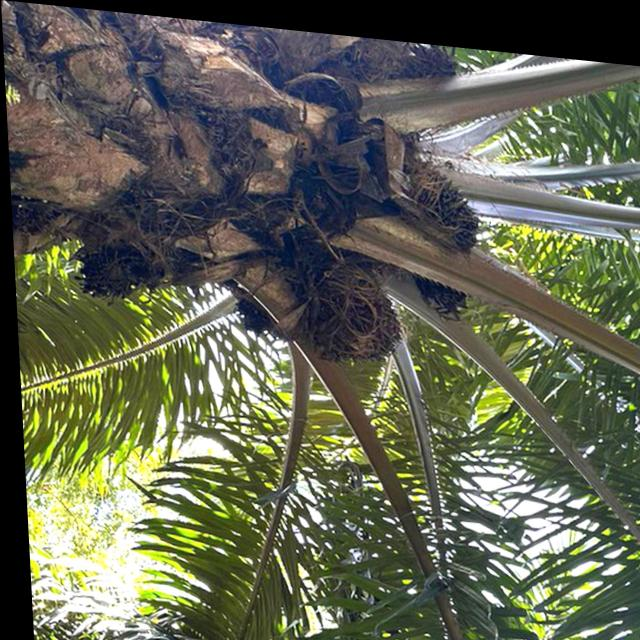ripe: (293, 244, 408, 369)
